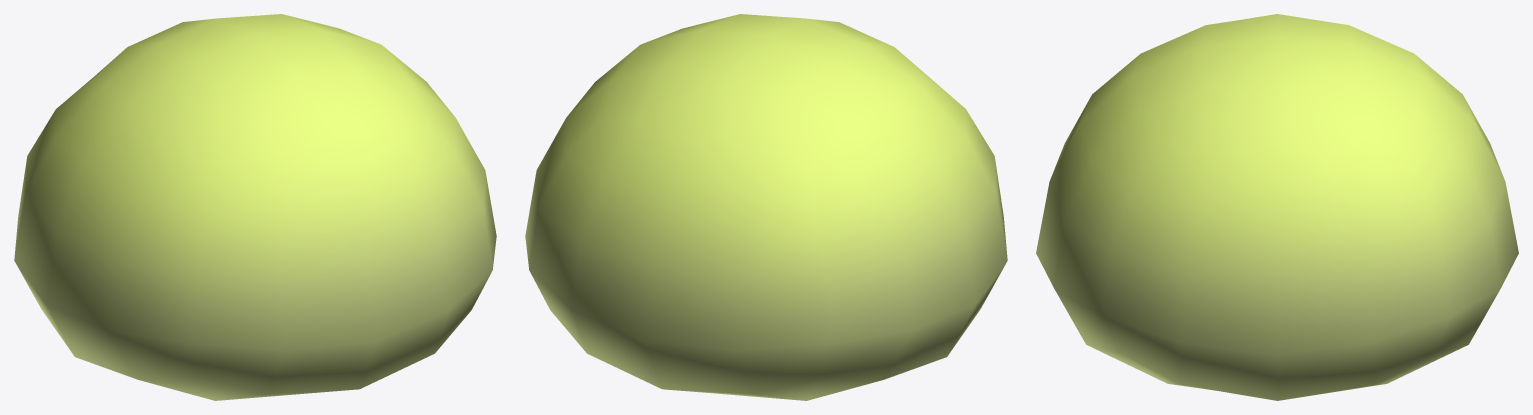
The model's file is slim00.fbx.
The picture shows the model from 3 angles, left to right: view 1: azimuth 30°, elevation 25°; view 2: azimuth 150°, elevation 25°; view 3: azimuth 270°, elevation 25°; orthographic projection.
Parts seen in each view (by area): view 1: slim00; view 2: slim00; view 3: slim00.
Part boxes in pixels (<box>): slim00: <box>14,14,496,400</box>; slim00: <box>525,14,1007,400</box>; slim00: <box>1036,14,1518,400</box>.
Bounding box in the file's own units: 66.22 × 49.06 × 66.22.
